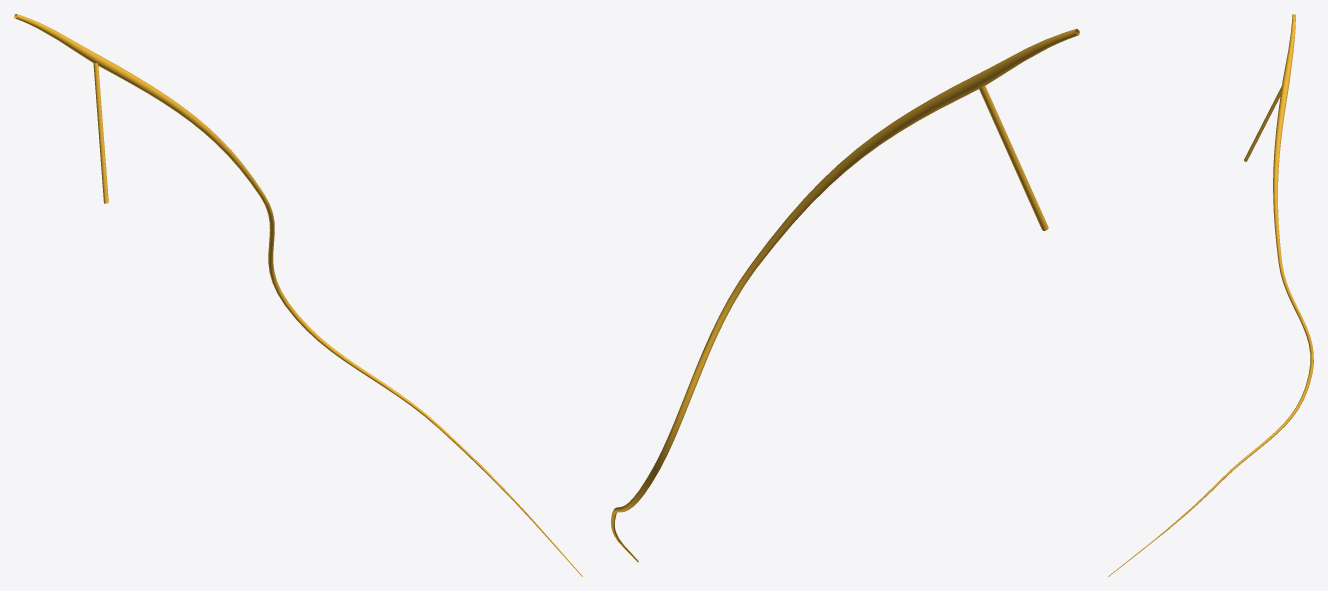
Rendered from nervoso-iliohypogastric-nerve-l.glb.
The picture shows the model from 3 angles, left to right: view 1: azimuth 30°, elevation 25°; view 2: azimuth 150°, elevation 25°; view 3: azimuth 270°, elevation 25°; orthographic projection. The views are drawn at different scales.
Visible parts, largest first — view 1: Iliohypogastric nerve.l; view 2: Iliohypogastric nerve.l; view 3: Iliohypogastric nerve.l.
Part boxes in pixels (x1,y1,x2,y2): Iliohypogastric nerve.l: [14, 14, 582, 576]; Iliohypogastric nerve.l: [611, 28, 1079, 562]; Iliohypogastric nerve.l: [1108, 14, 1313, 576].
Size of the model in its own units: 0.1016 by 0.1272 by 0.0577.
